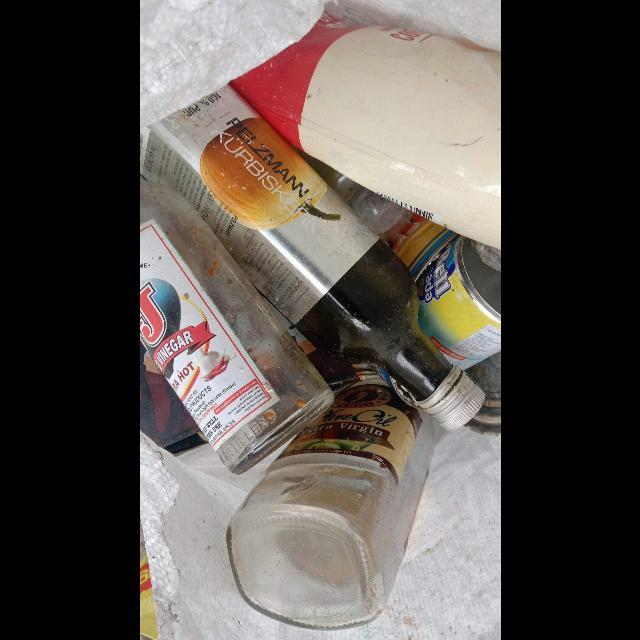aluminum: (414, 234, 501, 371), (377, 214, 456, 302)
glass_bottle: (139, 87, 441, 399), (139, 174, 334, 477), (225, 367, 447, 632)
plastic_bottle: (228, 11, 501, 252)
